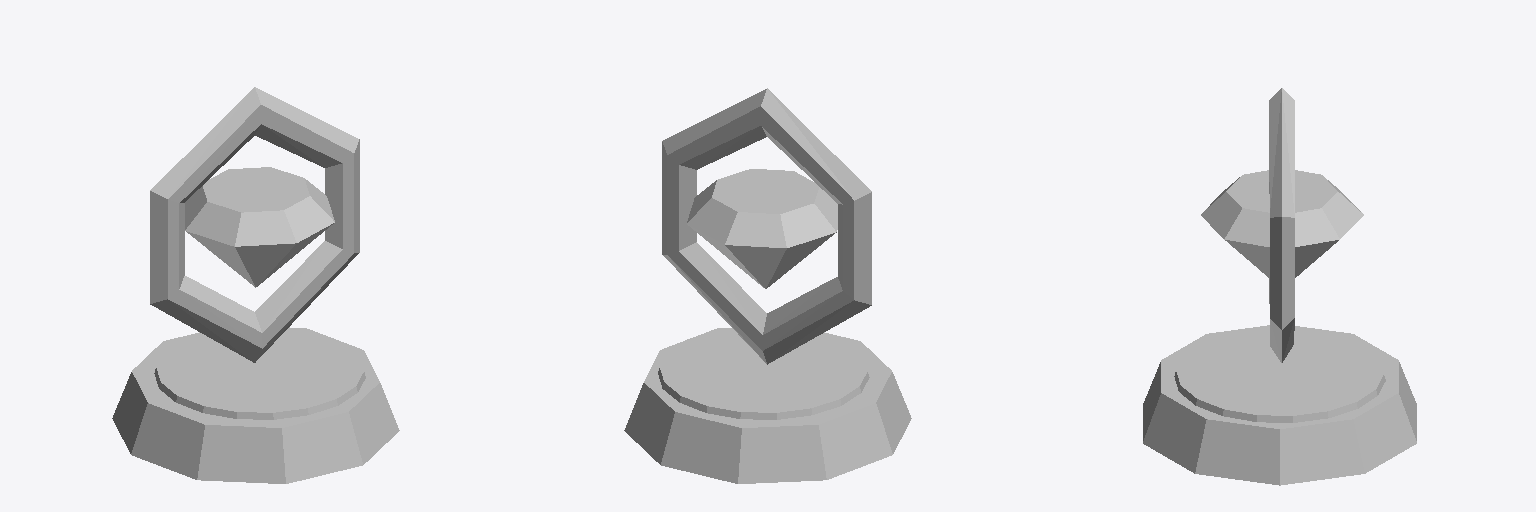
File: dian.obj
3 views of the same model, side by side, from view 1: azimuth 30°, elevation 25°; view 2: azimuth 150°, elevation 25°; view 3: azimuth 270°, elevation 25° (orthographic).
Visible parts, largest first — view 1: ui_icon_points_001b, polySurface1, pCone1; view 2: ui_icon_points_001b, polySurface1, pCone1; view 3: ui_icon_points_001b, pCone1, polySurface1.
Part boxes in pixels (x1,y1,x2,y2): ui_icon_points_001b: (112,327,399,483); polySurface1: (150,87,359,362); pCone1: (185,167,334,287); ui_icon_points_001b: (624,328,911,483); polySurface1: (662,88,871,364); pCone1: (687,169,837,288); ui_icon_points_001b: (1143,325,1416,485); pCone1: (1201,170,1363,278); polySurface1: (1269,88,1294,362).
Bounding box in the file's own units: 0.3631 × 0.4672 × 0.3453.